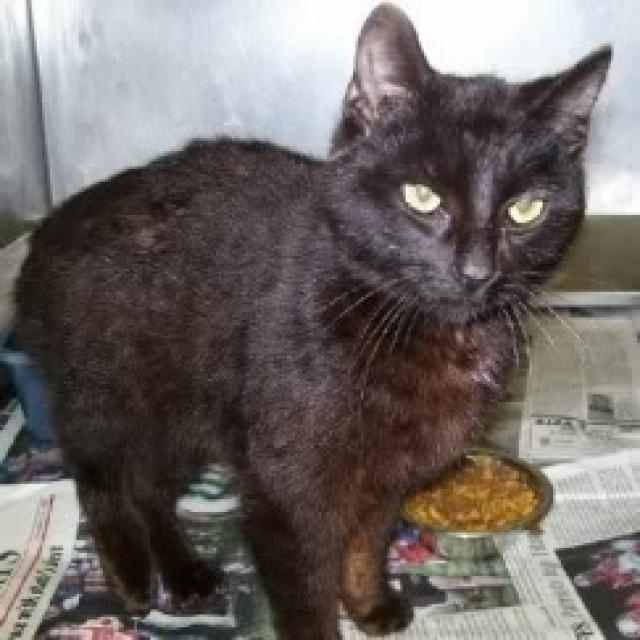Bombay: (299, 3, 624, 330)
